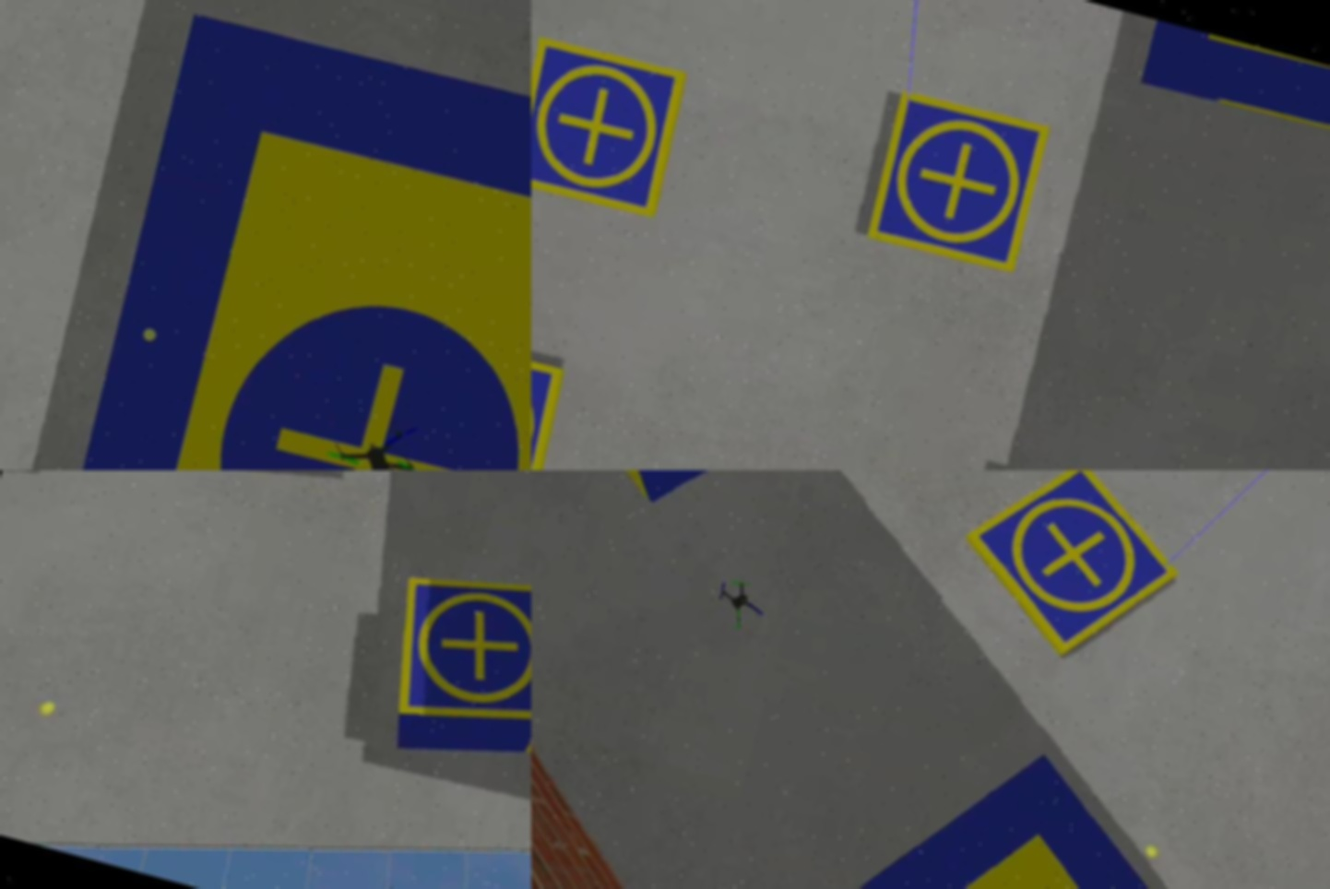large_base: (48, 5, 532, 471), (699, 695, 1330, 889)
small_base: (947, 471, 1196, 677), (862, 87, 1056, 277), (373, 553, 532, 757), (532, 34, 693, 221)
